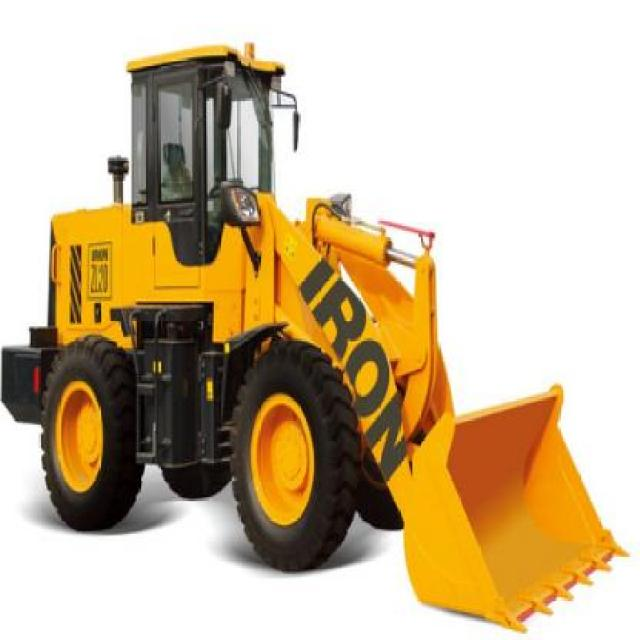buldozerpayloadergrader: (0, 28, 622, 635)
